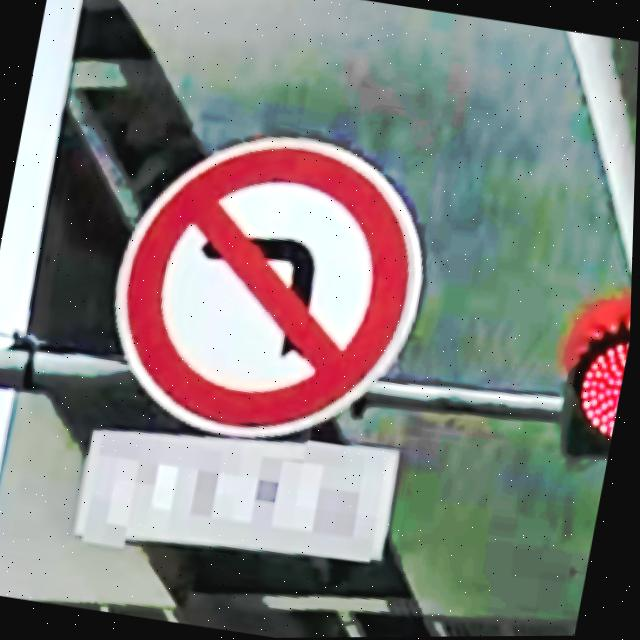noturnleft: (128, 148, 410, 425)
